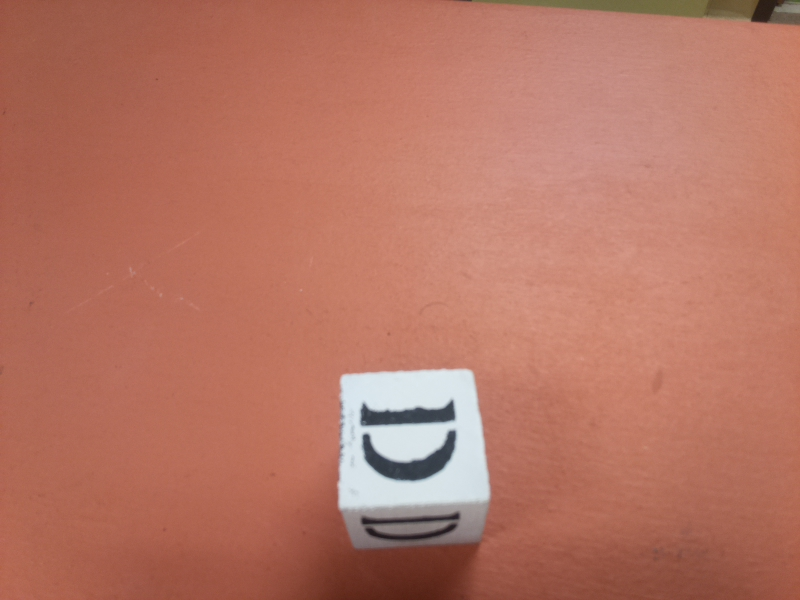blockD: (328, 368, 495, 552)
